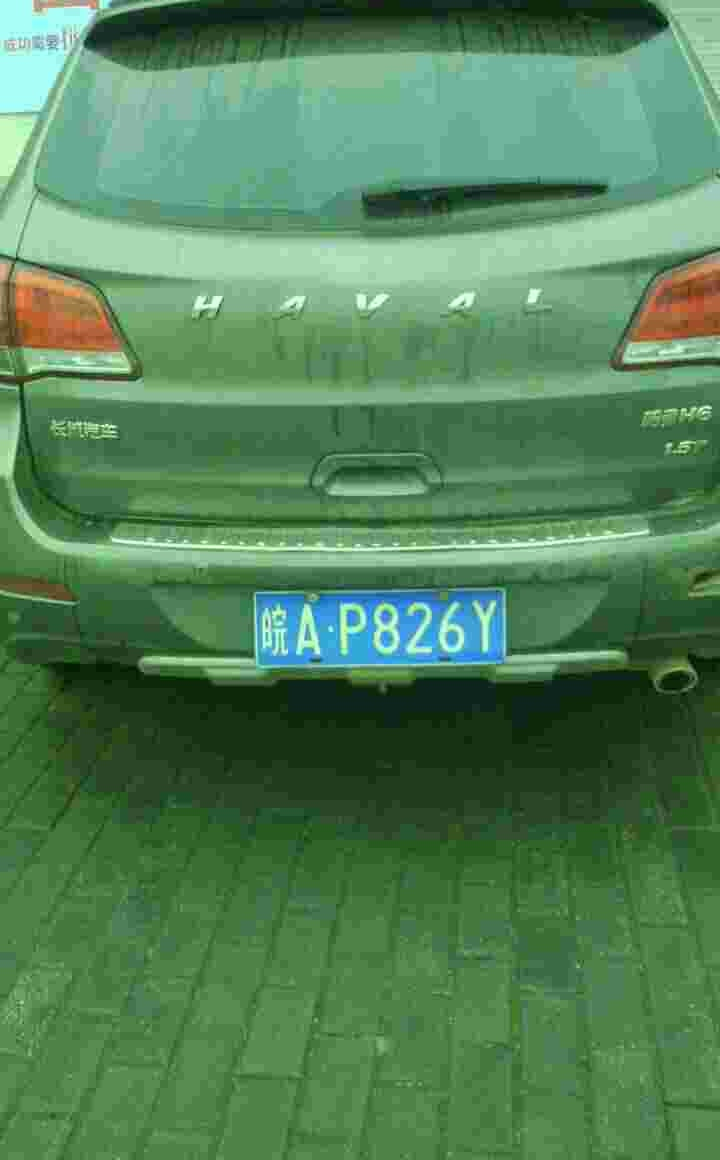license_plate: (238, 589, 501, 655)
